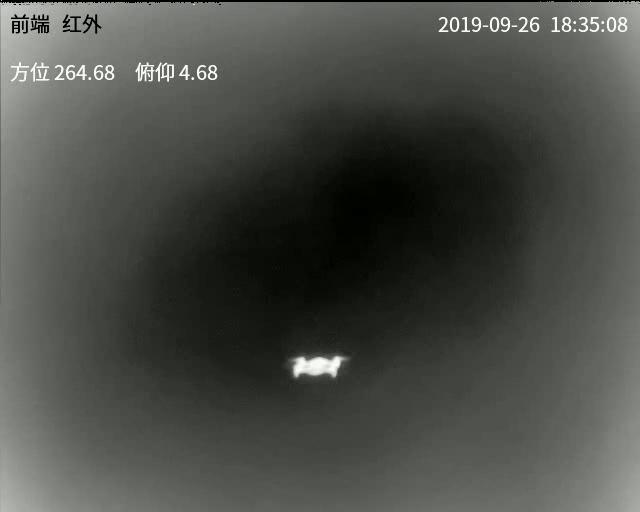DRONE: (289, 354, 344, 377)
